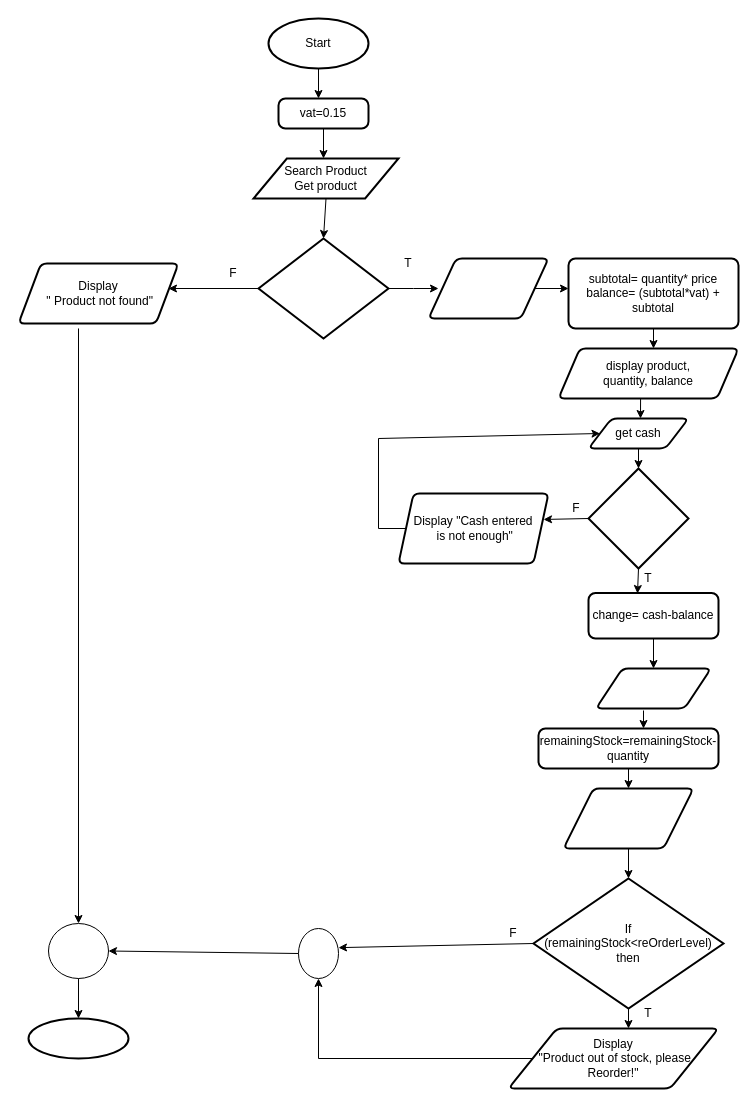
Some shapes in this 756 by 1106 pixel diagram are drawn without their labels. The box of each missing label's shape, as (x1, y1, x2, y2) in pixels:
display change: (594, 667, 712, 709)
get reOrderLevel: (562, 787, 694, 849)
If (cash>balance) then: (587, 467, 689, 569)
If product available then: (257, 237, 389, 339)
prompt quantity get quantity: (427, 257, 549, 319)
Stop.: (27, 1017, 129, 1059)
